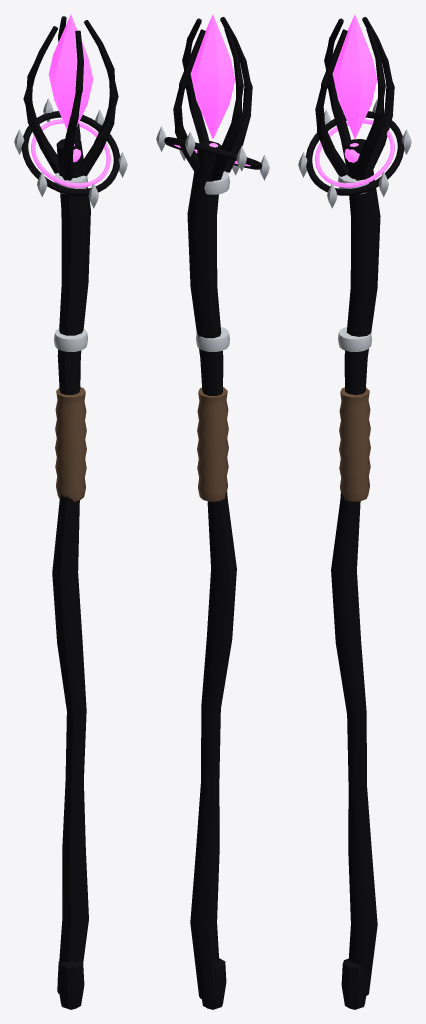
Rendered from esc_w_mage_staff_2.glb.
3 views of the same model, side by side, from view 1: azimuth 30°, elevation 25°; view 2: azimuth 150°, elevation 25°; view 3: azimuth 330°, elevation 25° (orthographic).
Parts seen in each view (by area): view 1: esc_w_mage_staff_2; view 2: esc_w_mage_staff_2; view 3: esc_w_mage_staff_2.
Part boxes in pixels (x1,y1,x2,y2): esc_w_mage_staff_2: [14, 14, 127, 1009]; esc_w_mage_staff_2: [156, 14, 269, 1009]; esc_w_mage_staff_2: [298, 14, 411, 1009].
Size of the model in its own units: 0.176 by 1.9 by 0.1749.
